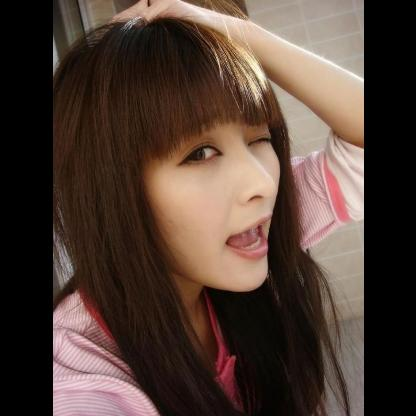Female: (143, 115, 281, 290)
